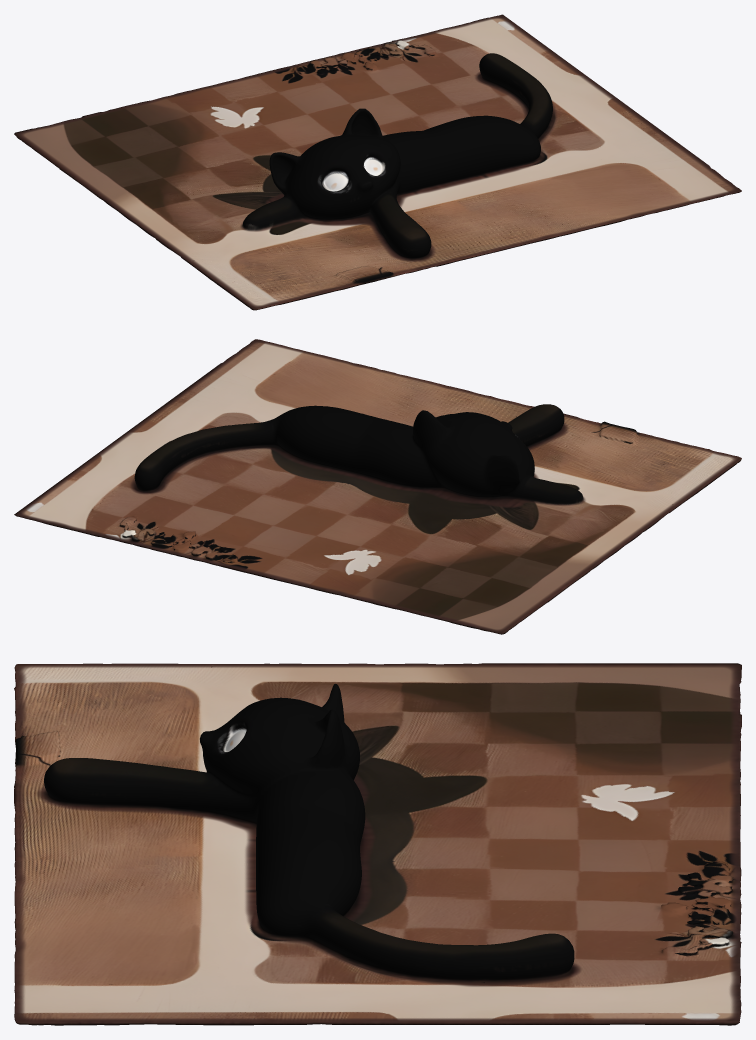
The model's file is 厕所地毯 (2).fbx.
The picture shows the model from 3 angles, top to bottom: view 1: azimuth 30°, elevation 25°; view 2: azimuth 150°, elevation 25°; view 3: azimuth 270°, elevation 25°; orthographic projection. The views are drawn at different scales.
Visible parts, largest first — view 1: model; view 2: model; view 3: model.
Boxes of the visible parts, left/top/right/bottom form: model: left=14, top=14, right=741, bottom=310; model: left=14, top=339, right=741, bottom=634; model: left=14, top=663, right=741, bottom=1025.
Bounding box in the file's own units: 175 × 25.69 × 150.
1 material, 1 textured.
